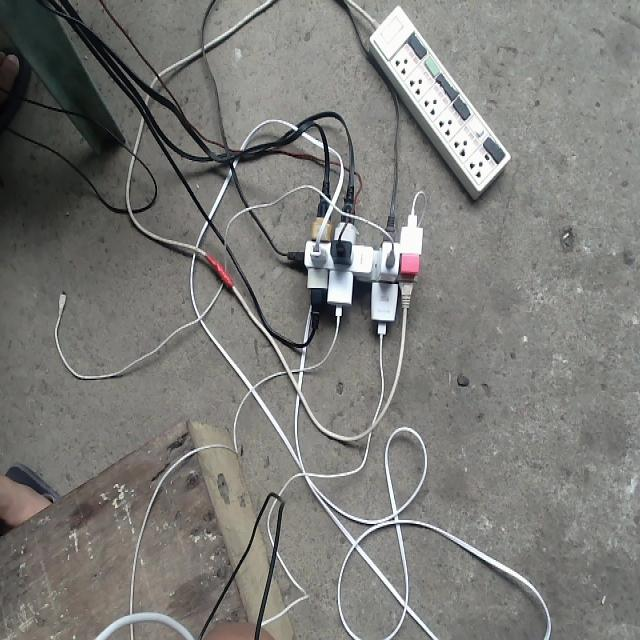-: (287, 191, 424, 329)
